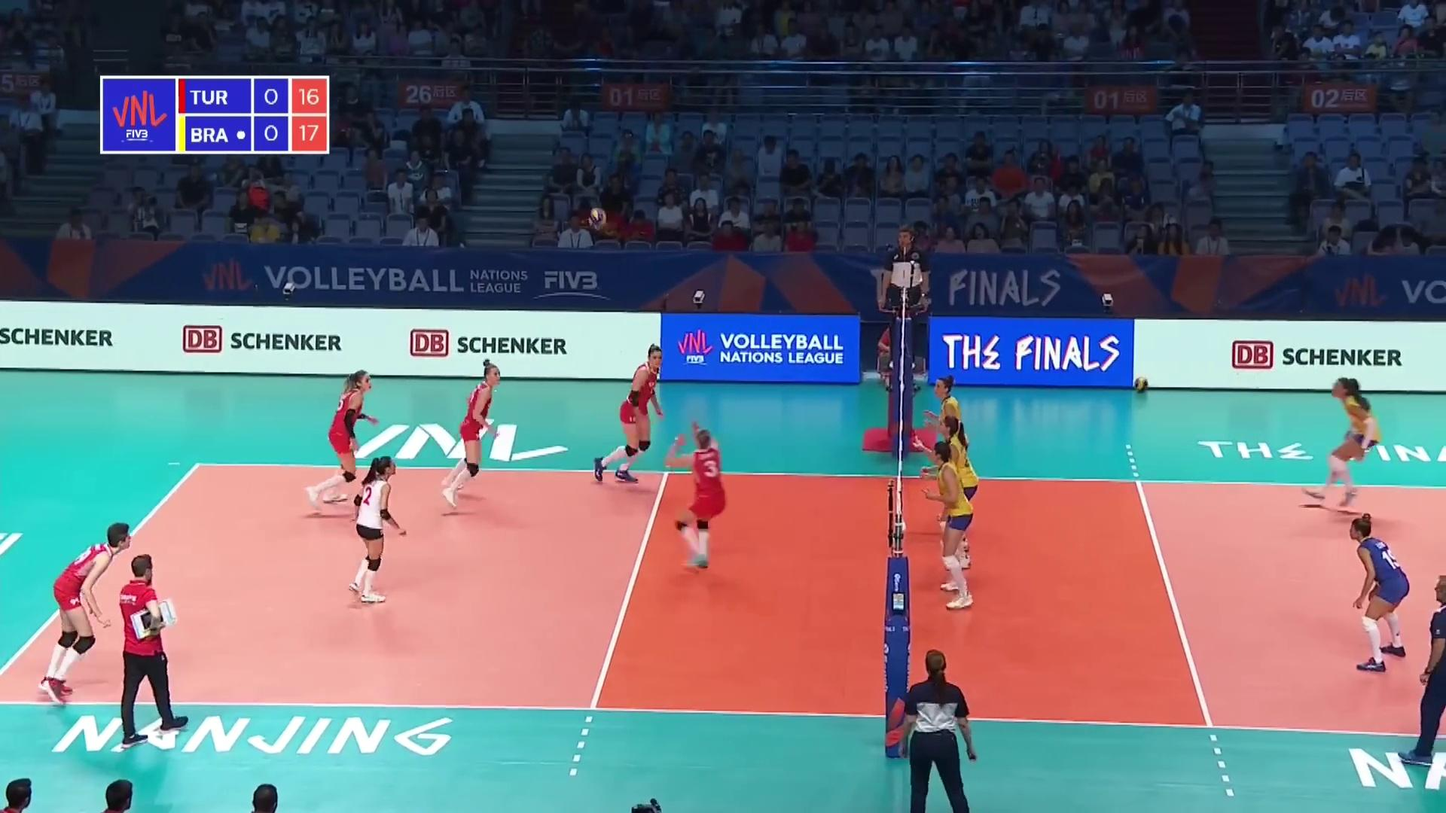player: (42, 520, 133, 707), (308, 373, 378, 523), (1345, 517, 1414, 669), (1300, 378, 1378, 511), (593, 343, 663, 486), (920, 414, 979, 573), (442, 363, 503, 515), (668, 424, 730, 571), (931, 435, 982, 612), (349, 459, 407, 603), (932, 379, 970, 533)
refree: (900, 649, 980, 812), (879, 225, 927, 370)
